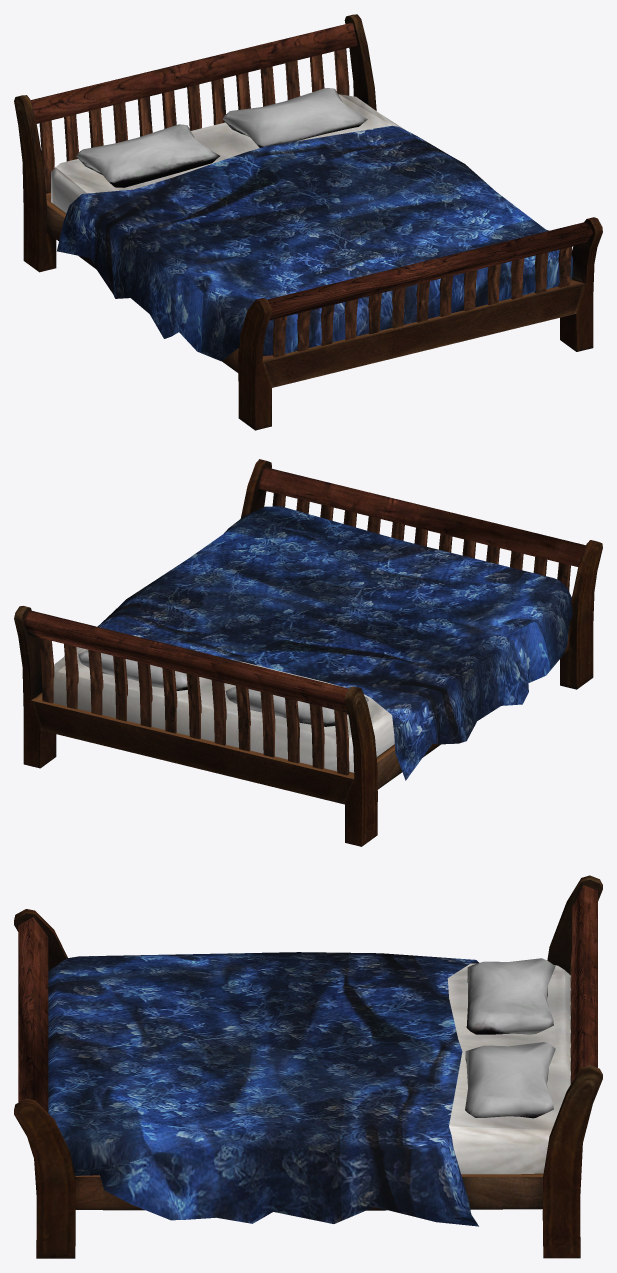
File: cama.obj
The picture shows the model from 3 angles, top to bottom: view 1: azimuth 30°, elevation 25°; view 2: azimuth 150°, elevation 25°; view 3: azimuth 270°, elevation 25°; orthographic projection. The views are drawn at different scales.
Visible parts, largest first — view 1: cama.002, cama_sabana; view 2: cama_sabana, cama.002; view 3: cama_sabana, cama.002.
Boxes of the visible parts, left/top/right/bottom form: cama.002: left=14, top=14, right=602, bottom=430; cama_sabana: left=57, top=125, right=573, bottom=361; cama_sabana: left=97, top=506, right=572, bottom=780; cama.002: left=14, top=459, right=602, bottom=846; cama_sabana: left=48, top=952, right=478, bottom=1226; cama.002: left=14, top=875, right=602, bottom=1258.
Bounding box in the file's own units: 142 × 61.93 × 175.
